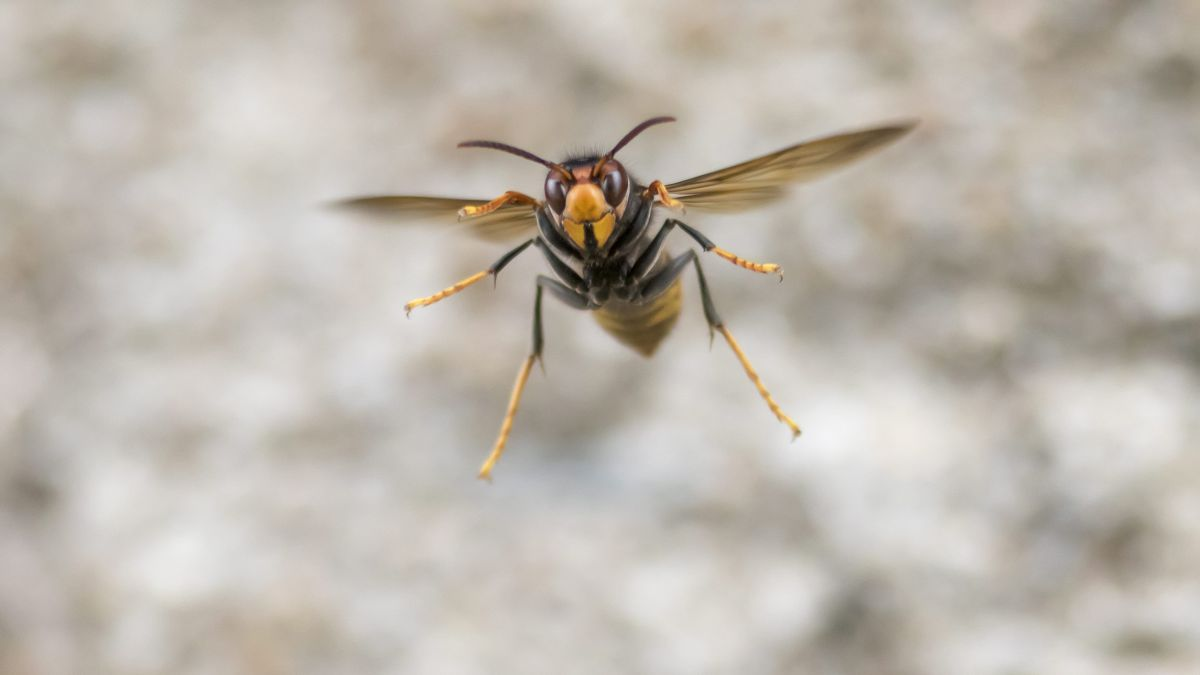hornet: (471, 125, 763, 395)
